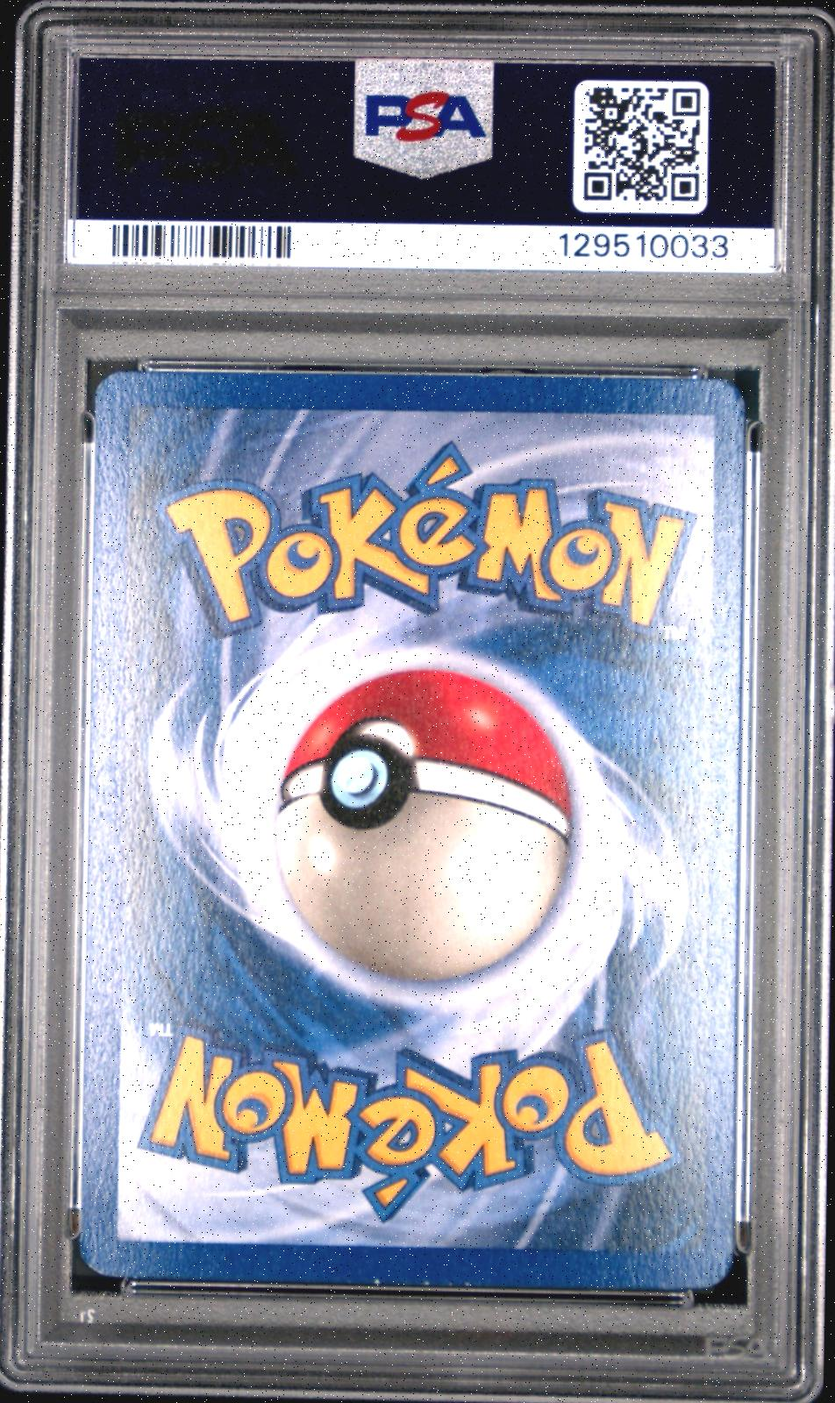card-2UtV: (78, 369, 746, 1291)
